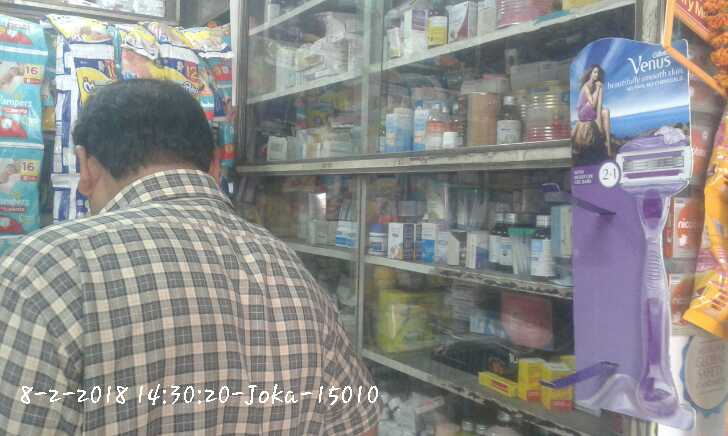pharmacy: (1, 52, 50, 145), (1, 152, 49, 232)
